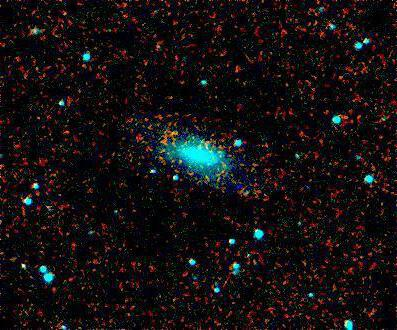star: (155, 118, 185, 148)
